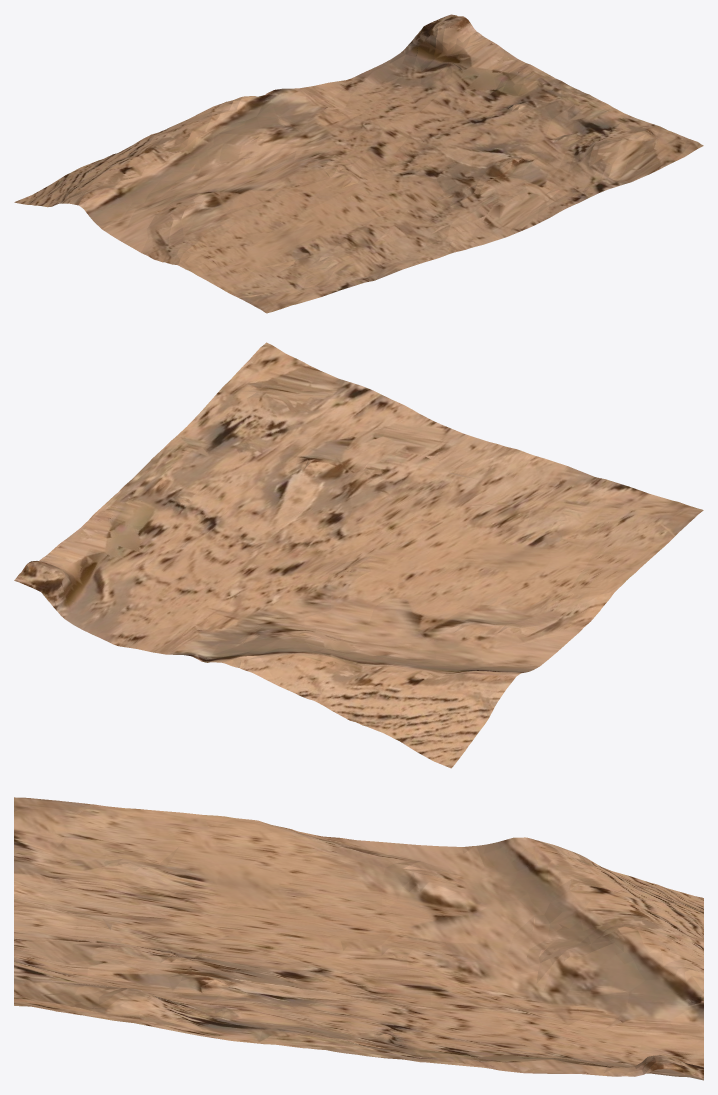
3 renders of one model, top to bottom at view 1: azimuth 30°, elevation 25°; view 2: azimuth 150°, elevation 25°; view 3: azimuth 270°, elevation 25°, orthographic. The views are drawn at different scales.
Size of the model in its own units: 2.09 by 0.614 by 2.09.
Materials: 2 (2 with a texture image).
